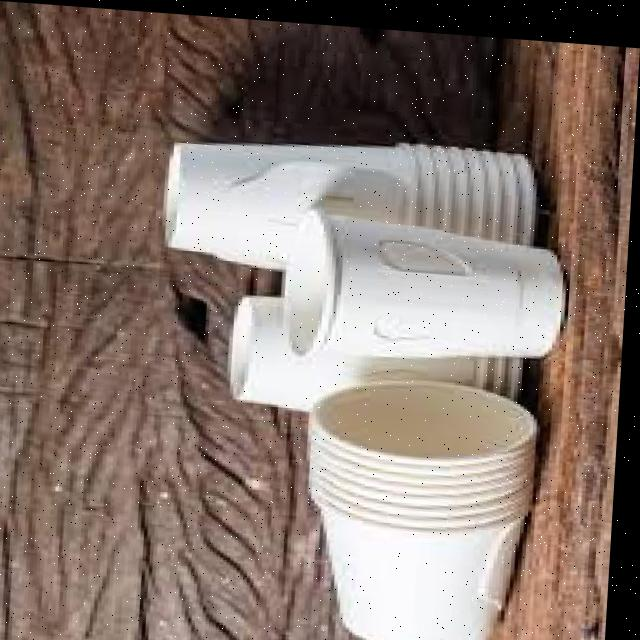cup: (298, 362, 558, 640), (293, 202, 579, 367)
